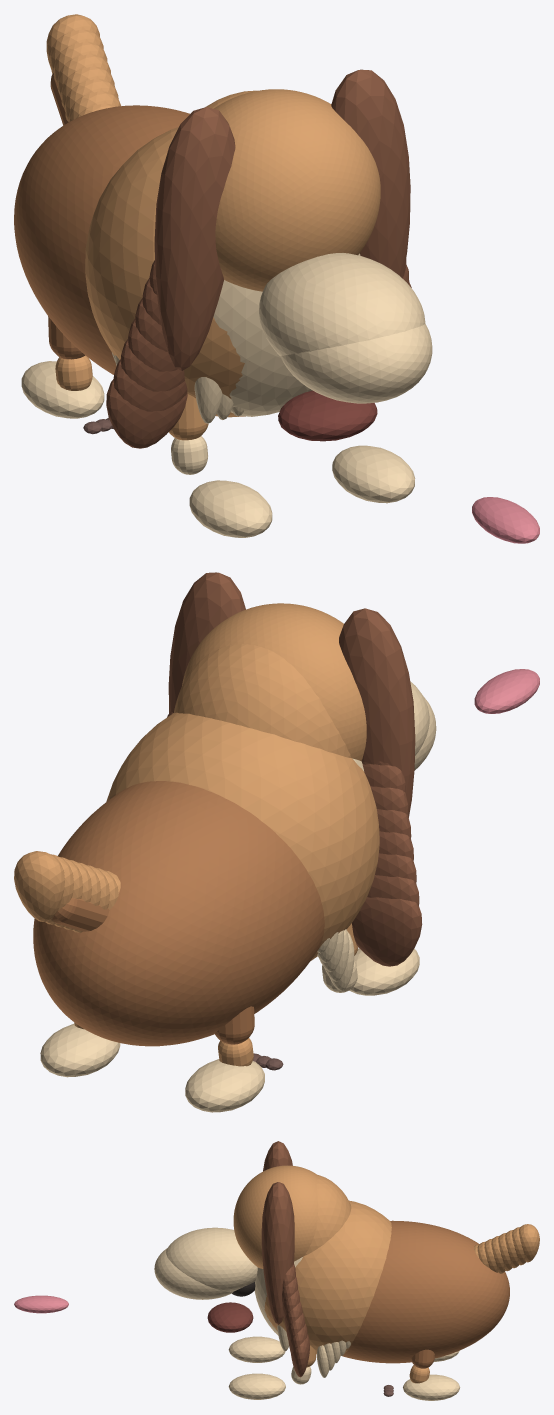
File: cocker.glb
3 renders of one model, top to bottom at view 1: azimuth 30°, elevation 25°; view 2: azimuth 150°, elevation 25°; view 3: azimuth 270°, elevation 25°, orthographic. The views are drawn at different scales.
Visible parts, largest first — view 1: Head, Body, Ear_L, Ribcage, MuzzleTop, Ear_R, Muzzle, Chest, Paw_FL, Paw_FR, LowerLip, Paw_BL (+18 smaller); view 2: Body, Ribcage, Neck, Head, Ear_L, Ear_R, EarFeather_L_7, Paw_BL, Paw_BR, TailFluff_7, Tongue, Paw_FL (+10 smaller); view 3: Body, Ribcage, Head, MuzzleTop, Ear_R, Neck, Muzzle, Paw_FR, Paw_FL, LowerLip, Paw_BR, Tongue (+5 smaller).
Boxes of the visible parts, x1,y1,x2,y2 form: Head: (214, 89, 380, 291); Body: (14, 105, 189, 374); Ear_L: (154, 107, 235, 370); Ribcage: (85, 127, 249, 417); MuzzleTop: (259, 253, 425, 355); Ear_R: (331, 69, 410, 278); Muzzle: (280, 324, 432, 403); Chest: (213, 253, 360, 416); Paw_FL: (189, 480, 272, 537); Paw_FR: (332, 445, 415, 503); LowerLip: (278, 390, 377, 441); Paw_BL: (21, 361, 104, 418); Body: (33, 781, 324, 1046); Ribcage: (106, 712, 379, 961); Neck: (174, 644, 351, 757); Head: (182, 603, 366, 760); Ear_L: (339, 608, 415, 817); Ear_R: (168, 572, 245, 713); EarFeather_L_7: (352, 897, 422, 966); Paw_BL: (185, 1059, 264, 1112); Paw_BR: (40, 1024, 120, 1077); TailFluff_7: (14, 851, 64, 921); Tongue: (474, 669, 539, 713); Paw_FL: (349, 948, 419, 995); Body: (342, 1220, 509, 1363); Ribcage: (264, 1200, 391, 1354); Head: (233, 1165, 318, 1268); MuzzleTop: (166, 1227, 257, 1291); Ear_R: (261, 1182, 294, 1324); Neck: (304, 1174, 351, 1255); Muzzle: (154, 1248, 233, 1299); Paw_FR: (228, 1373, 285, 1399); Paw_FL: (228, 1336, 285, 1362); LowerLip: (207, 1302, 253, 1332); Paw_BR: (403, 1374, 460, 1400); Tongue: (14, 1295, 68, 1313).
Size of the model in its own units: 1.65 by 2.08 by 4.58.
